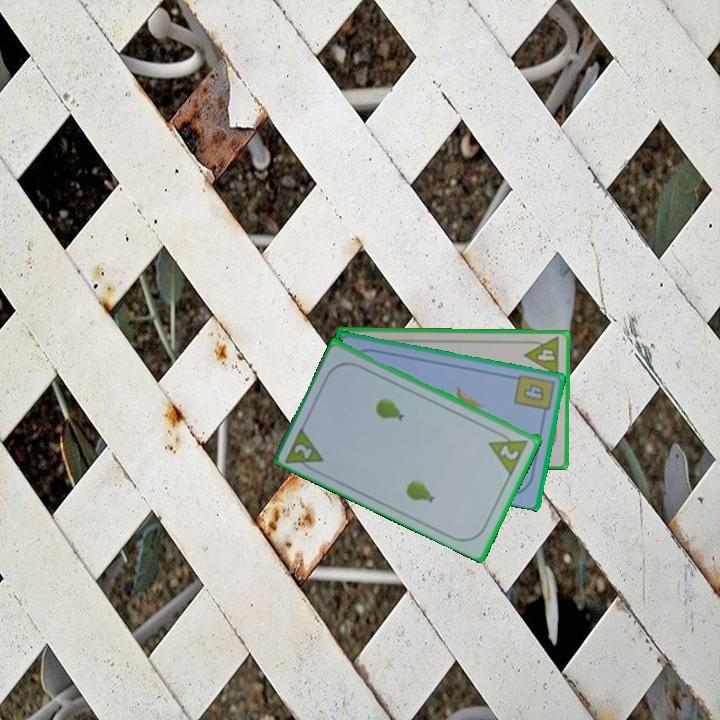2p: (485, 426, 531, 477), (291, 440, 316, 462)
4b: (511, 371, 557, 419)
4p: (521, 334, 563, 378)
